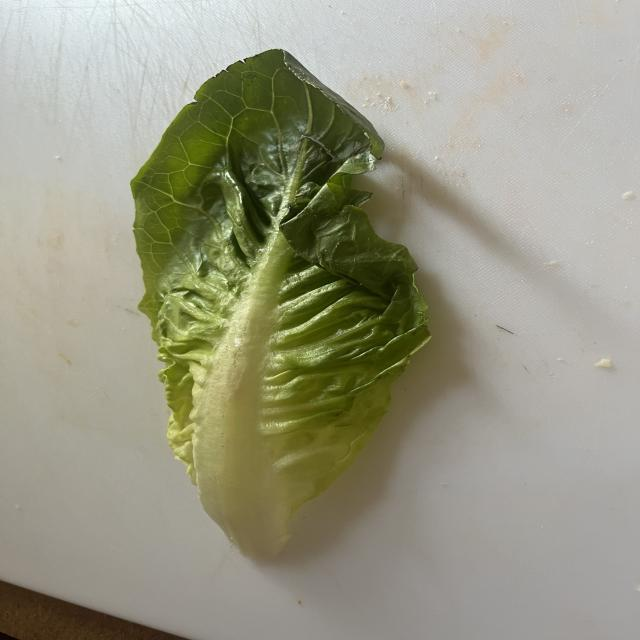lettuce: (131, 50, 430, 557)
